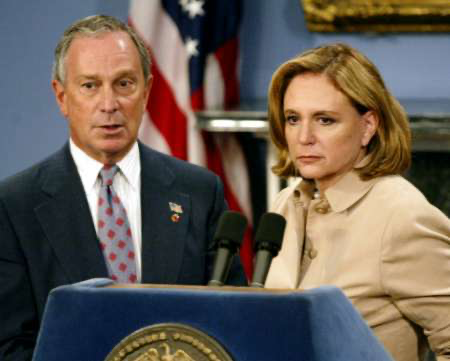Face: (62, 33, 146, 153), (277, 74, 366, 179)
